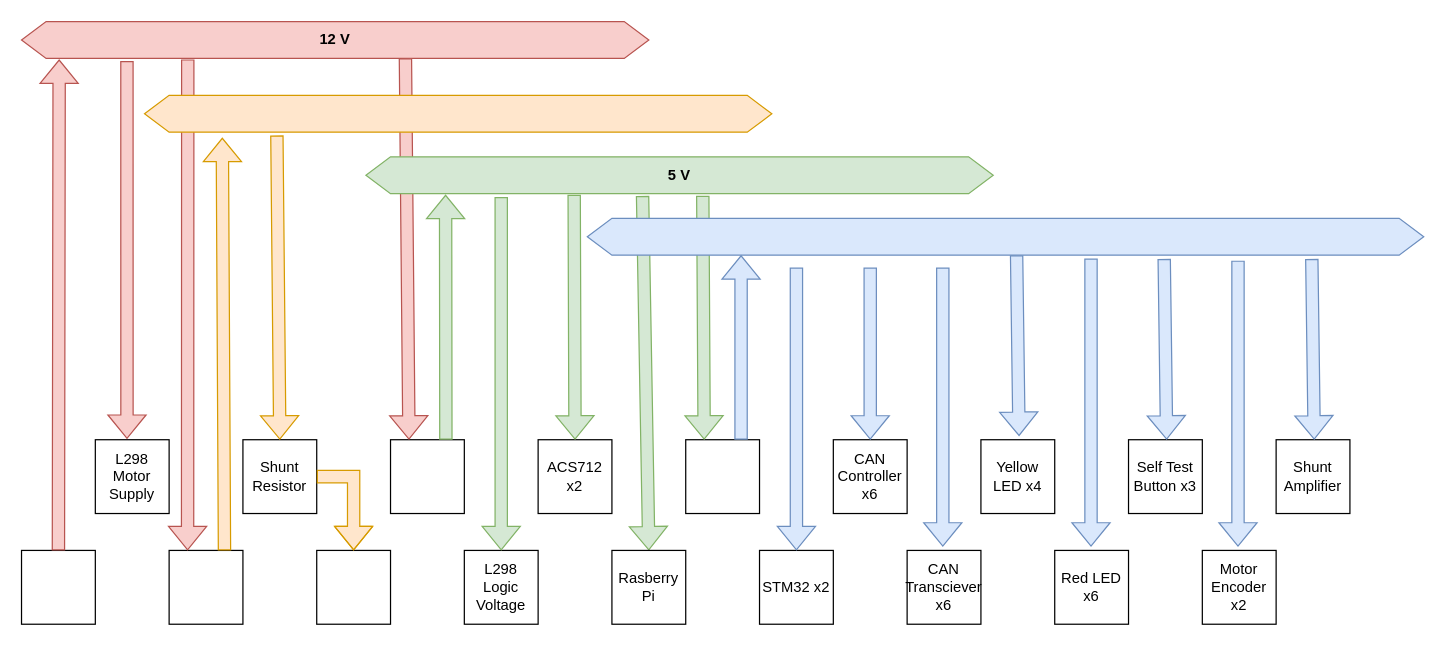
Some shapes in this 1445 by 646 pixel diagram are drawn without their labels. Here are the shapes that lost their labels. From the top down, the centre of each, then its label:
At pixel 457 113: "6-8 V".
At pixel 1005 236: "3.3 V".
At pixel 426 476: "5 V Buck Regulator".
At pixel 722 476: "3.3 V Linear Regulator".
At pixel 57 586: "12 V Source".
At pixel 205 586: "6-8 V Buck Regulator".
At pixel 353 586: "Steering Servo".
